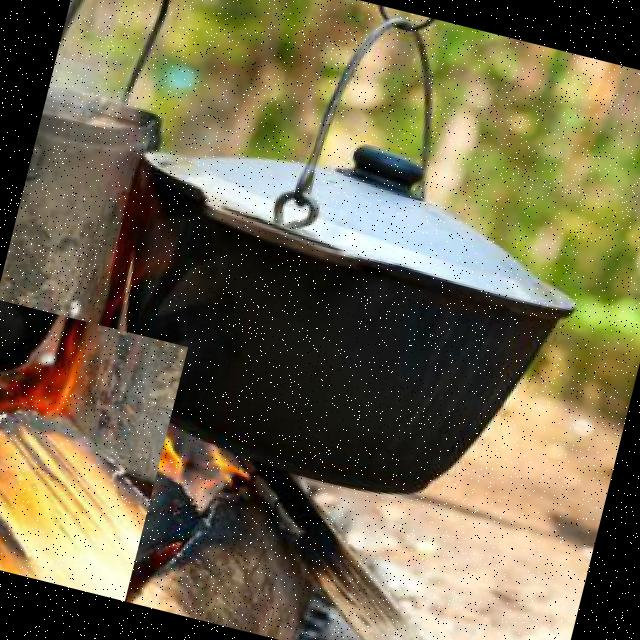fire: (0, 299, 188, 601)
